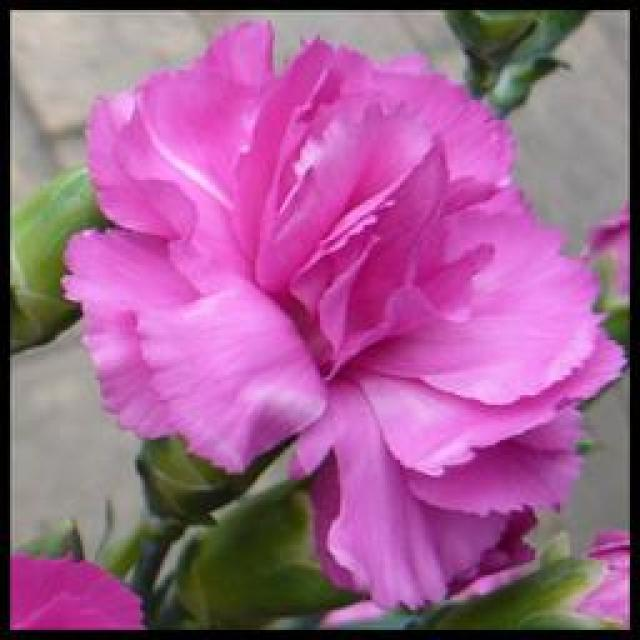carnation: (66, 21, 624, 580)
